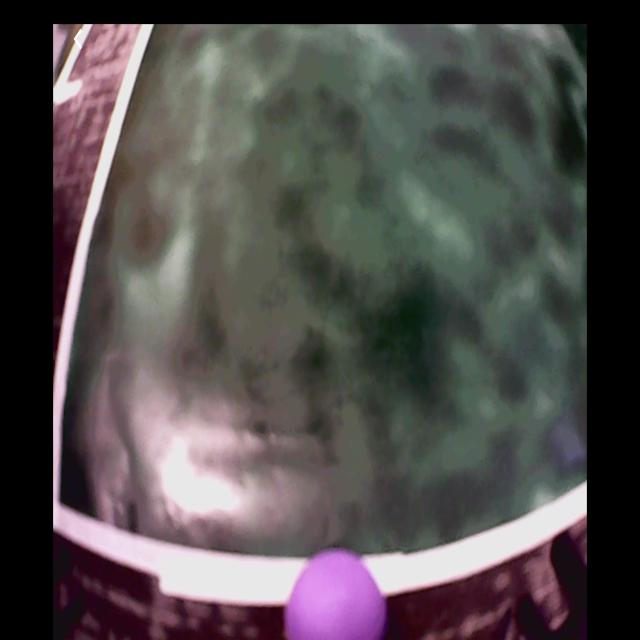ball: (286, 553, 391, 636)
